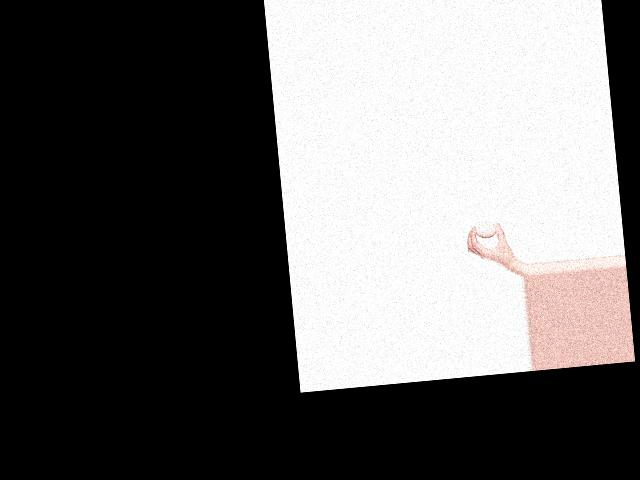egg: (474, 221, 497, 239)
